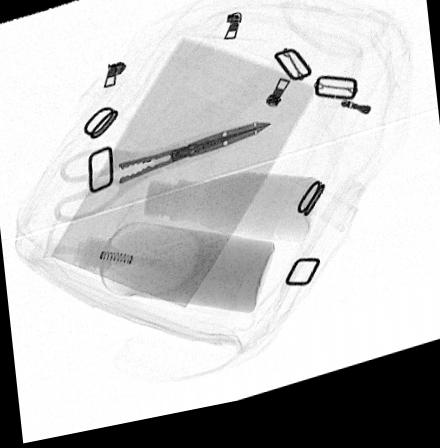Scissors: (51, 129, 271, 224)
